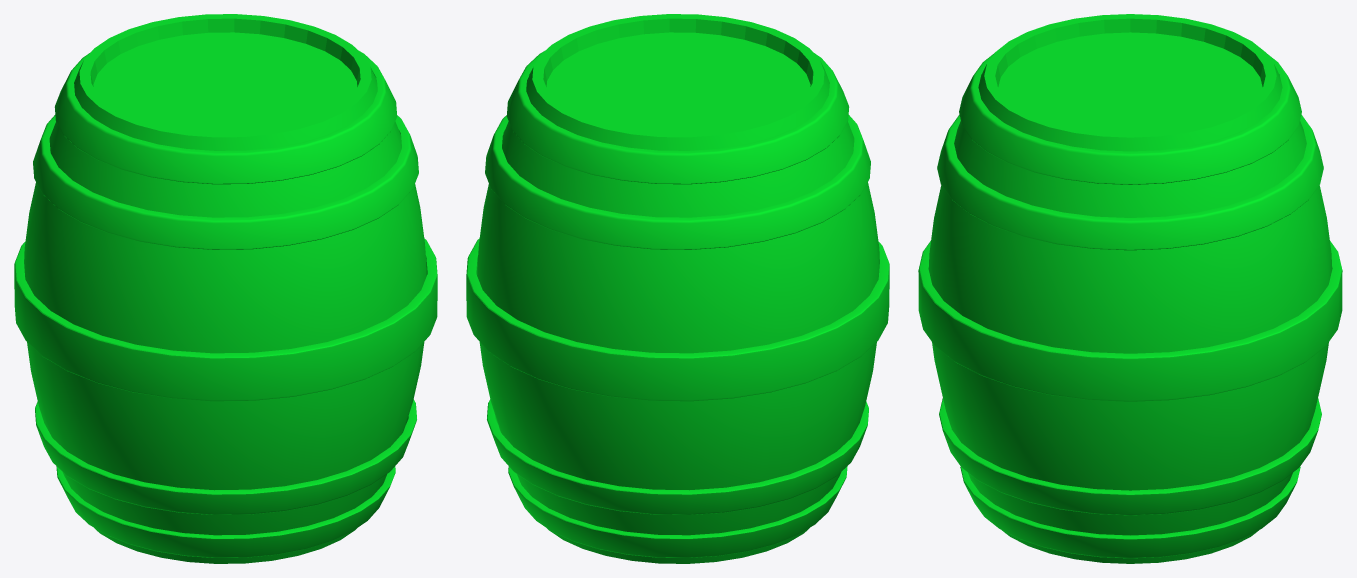
Rendered from tonneau.FBX.
3 renders of one model, left to right at view 1: azimuth 30°, elevation 25°; view 2: azimuth 150°, elevation 25°; view 3: azimuth 270°, elevation 25°, orthographic.
Parts seen in each view (by area): view 1: tonneaux bois 001; view 2: tonneaux bois 001; view 3: tonneaux bois 001.
Part boxes in pixels (box(x1,y1,x2,y2)): tonneaux bois 001: box(14, 14, 437, 563); tonneaux bois 001: box(466, 14, 889, 563); tonneaux bois 001: box(918, 14, 1342, 563).
Size of the model in its own units: 90.02 by 100 by 90.02.
